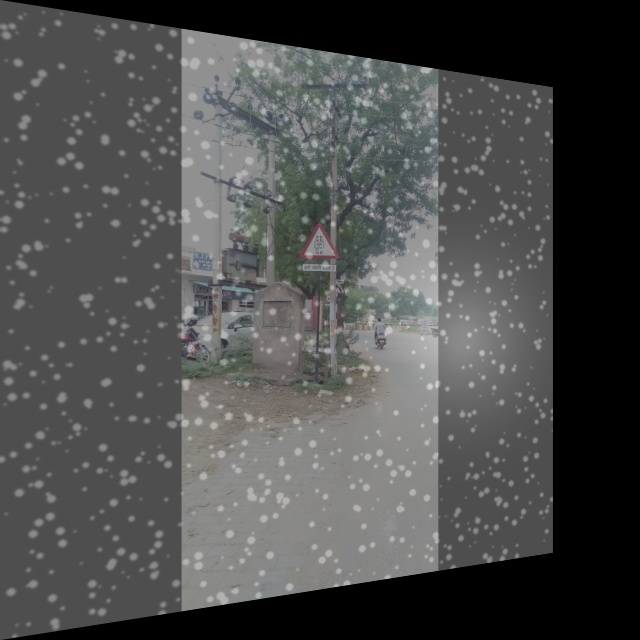Narrow_Road_Ahead: (300, 221, 338, 259)
